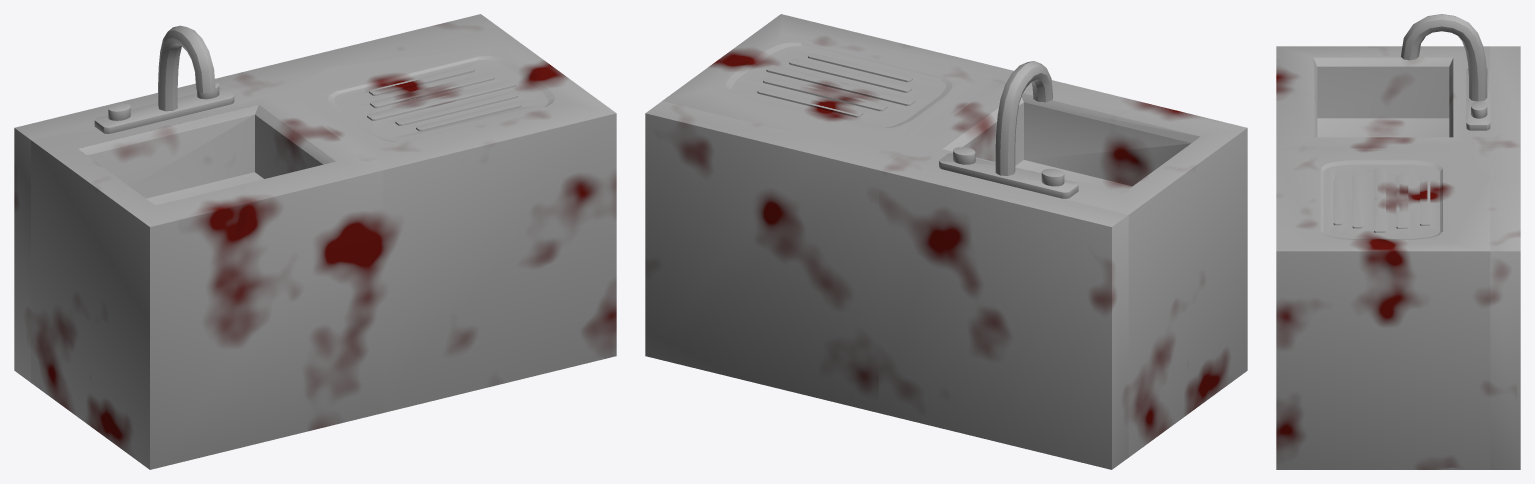
File: Washesplates.fbx
3 views of the same model, side by side, from view 1: azimuth 30°, elevation 25°; view 2: azimuth 150°, elevation 25°; view 3: azimuth 270°, elevation 25° (orthographic). The views are drawn at different scales.
Parts seen in each view (by area): view 1: BézierCurve, Cube.031; view 2: BézierCurve, Cube.031; view 3: Cube.031, BézierCurve.
Part boxes in pixels (x1,y1,x2,y2): BézierCurve: (14, 25, 383, 469); Cube.031: (248, 14, 616, 412); BézierCurve: (878, 61, 1247, 469); Cube.031: (645, 14, 1013, 412); Cube.031: (1276, 148, 1520, 469); BézierCurve: (1276, 14, 1520, 148).
Size of the model in its own units: 3.97 by 2.78 by 2.
Materials: 1 (1 with a texture image).
